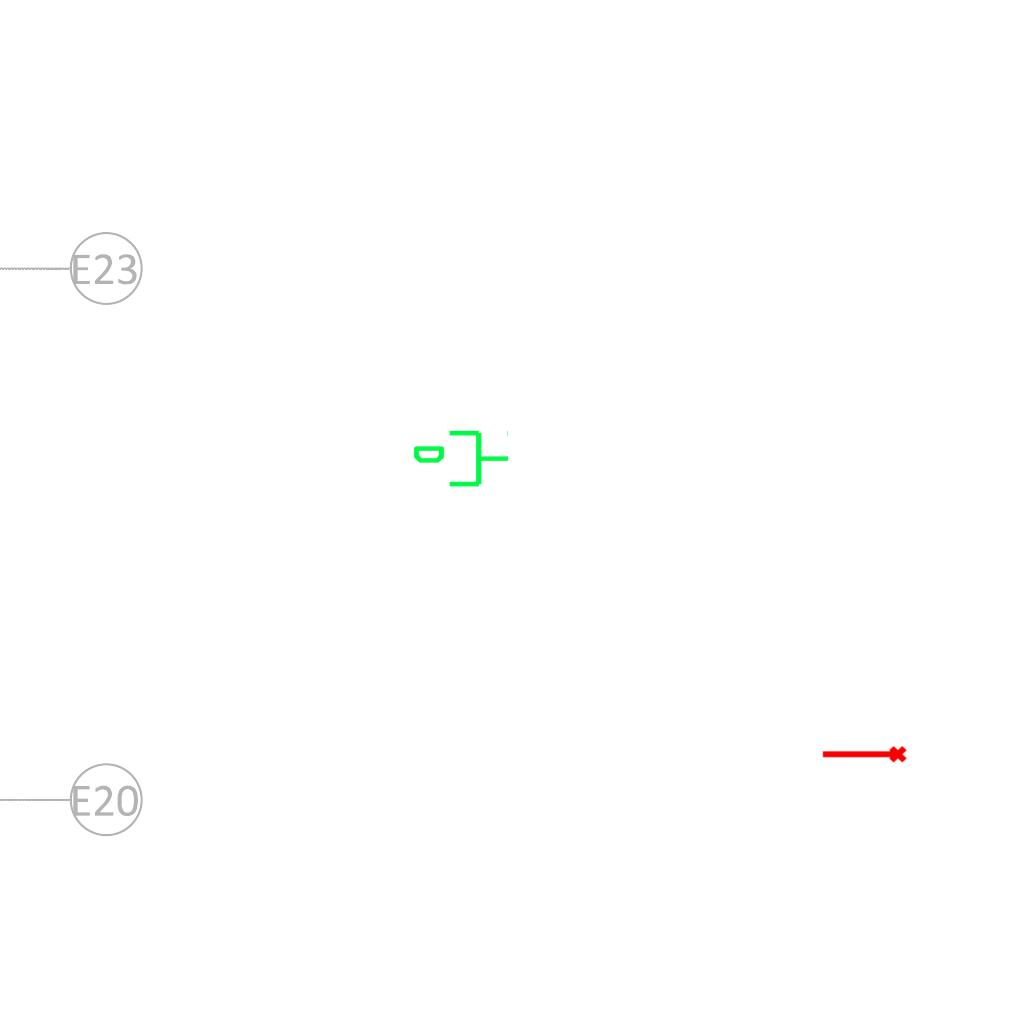ASR_Ansaugoeffnung: (820, 744, 908, 767)
Datenanschluss_einfach: (411, 426, 511, 495)
